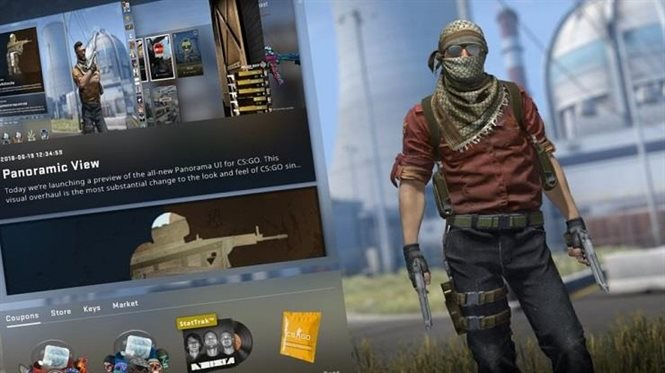t: (409, 19, 588, 373)
th: (429, 16, 494, 92)
